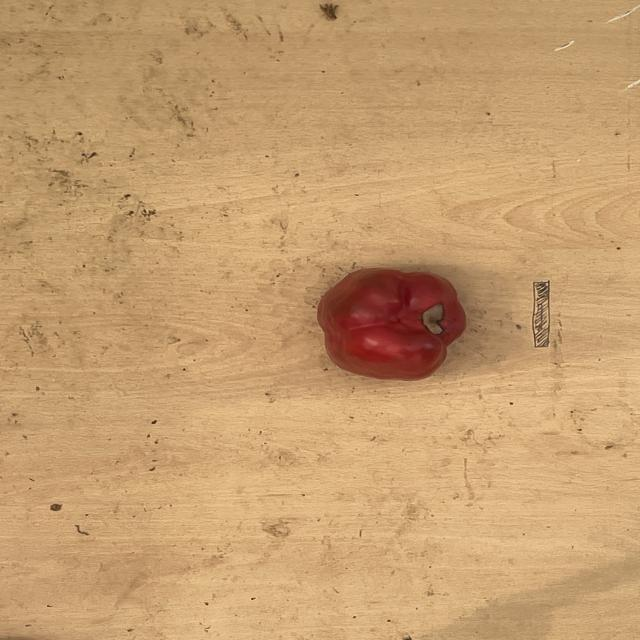Wet Waste: (304, 262, 470, 387)
